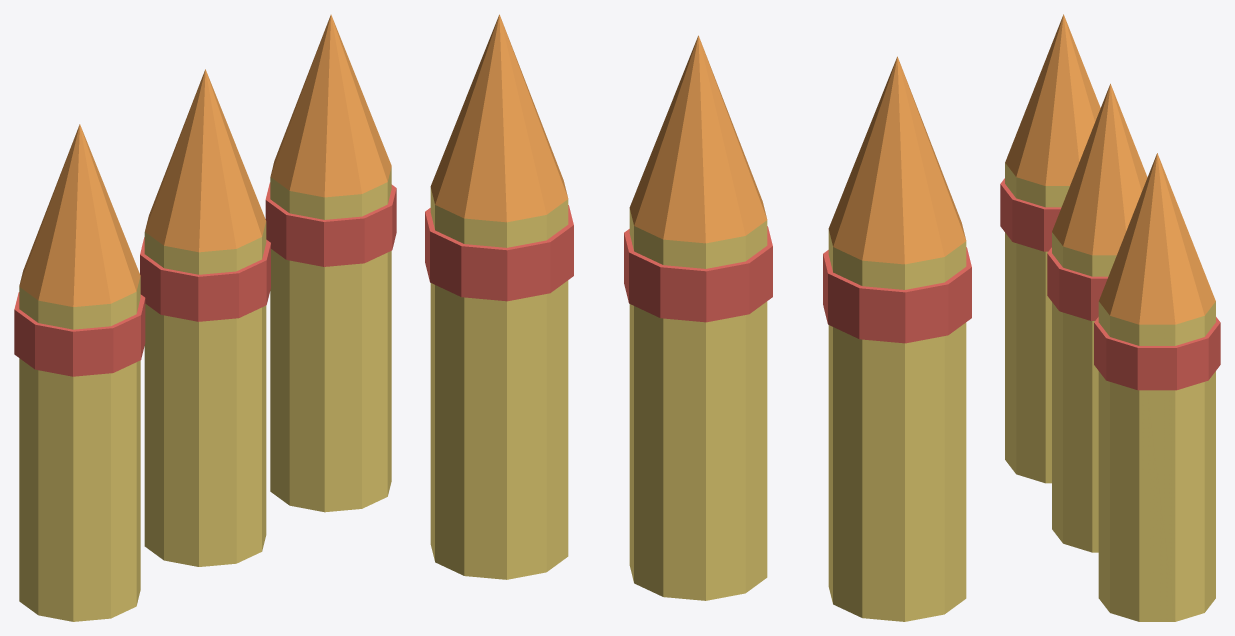
The model's file is AmmoFire.fbx.
The picture shows the model from 3 angles, left to right: view 1: azimuth 30°, elevation 25°; view 2: azimuth 150°, elevation 25°; view 3: azimuth 270°, elevation 25°; orthographic projection. The views are drawn at different scales.
Visible parts, largest first — view 1: Body; view 2: Body; view 3: Body.
Boxes of the visible parts, left/top/right/bottom form: Body: left=14, top=14, right=396, bottom=621; Body: left=425, top=14, right=971, bottom=621; Body: left=1000, top=14, right=1220, bottom=621.
Size of the model in its own units: 0.1914 by 0.21 by 0.094.
